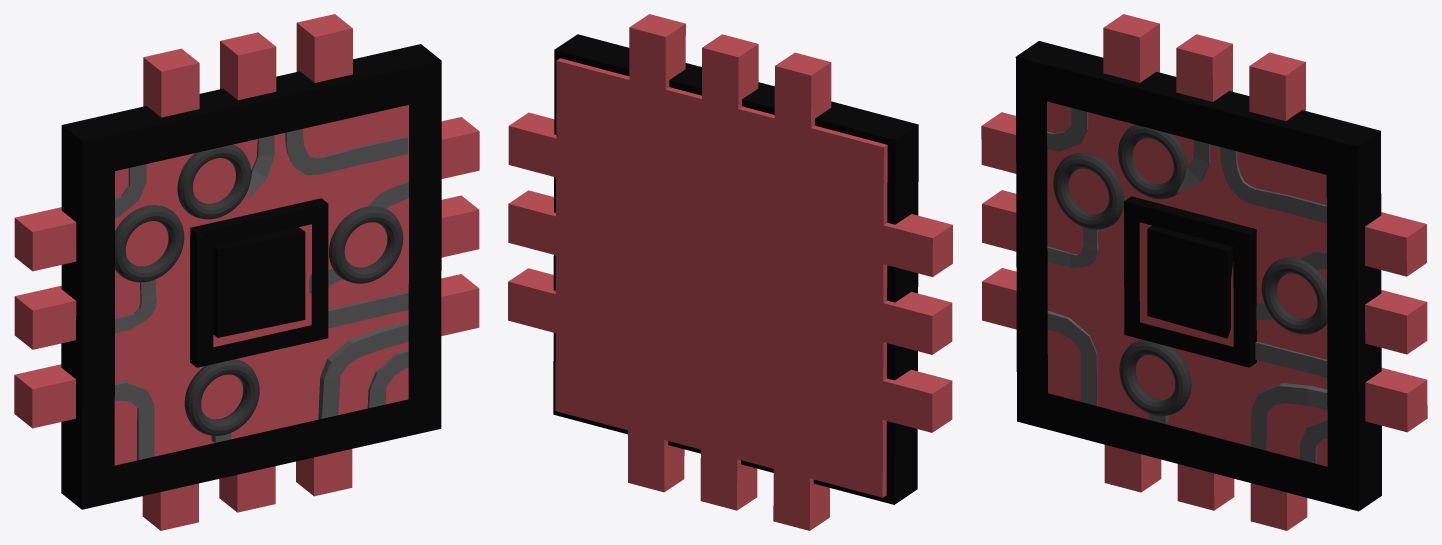
File: chip10.gltf
3 renders of one model, left to right at view 1: azimuth 30°, elevation 25°; view 2: azimuth 150°, elevation 25°; view 3: azimuth 330°, elevation 25°, orthographic.
Parts seen in each view (by area): view 1: Cube, Cube2, Cube1, Torus, Cube3, Cube11; view 2: Cube, Cube2; view 3: Cube, Cube2, Cube1, Torus, Cube3, Cube11.
Part boxes in pixels (box(x1,y1,x2,y2)): Cube: box(14, 14, 479, 530); Cube2: box(61, 44, 441, 509); Cube1: box(114, 129, 408, 460); Torus: box(115, 144, 403, 435); Cube3: box(190, 198, 328, 367); Cube11: box(213, 227, 305, 337); Cube: box(508, 14, 952, 530); Cube2: box(553, 34, 918, 504); Cube: box(981, 14, 1427, 530); Cube2: box(1015, 41, 1381, 511); Cube1: box(1047, 108, 1327, 463); Torus: box(1053, 124, 1327, 416); Cube3: box(1124, 196, 1256, 367); Cube11: box(1147, 225, 1233, 338).
Bounding box in the file's own units: 2.6 × 2.6 × 0.351.
